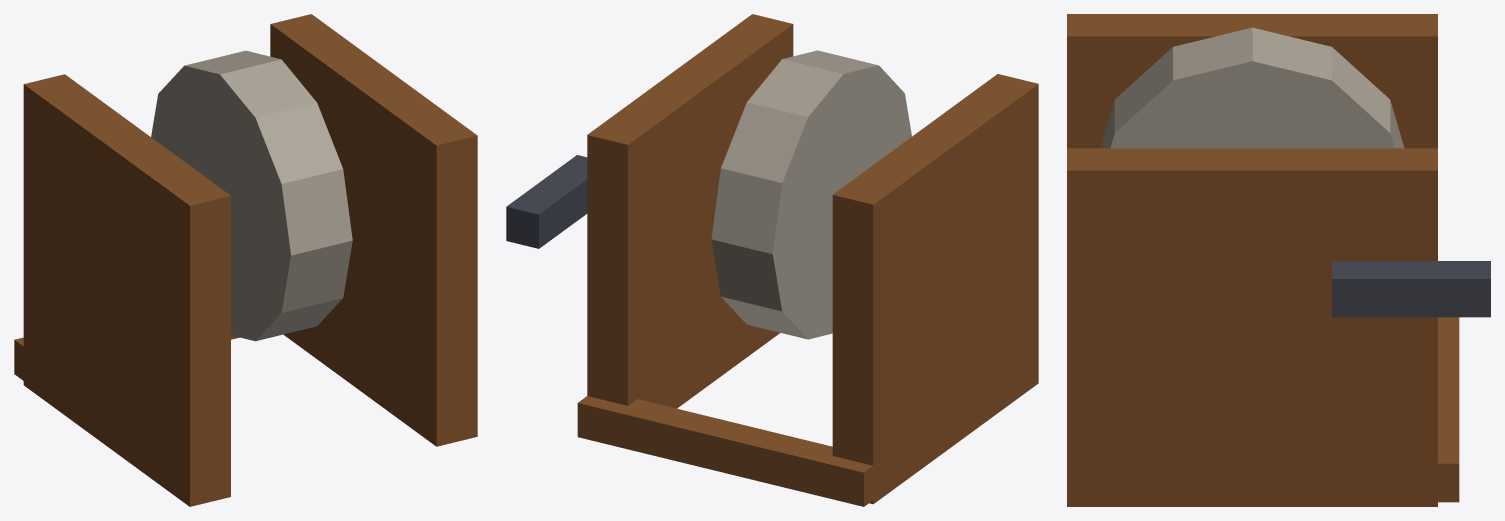
File: grindstone.glb
3 renders of one model, left to right at view 1: azimuth 30°, elevation 25°; view 2: azimuth 150°, elevation 25°; view 3: azimuth 270°, elevation 25°, orthographic. The views are drawn at different scales.
Visible parts, largest first — view 1: grindstone; view 2: grindstone; view 3: grindstone.
Boxes of the visible parts, bbox=[...] form: grindstone: bbox=[14, 14, 477, 506]; grindstone: bbox=[506, 14, 1038, 506]; grindstone: bbox=[1067, 14, 1490, 506].
Size of the model in its own units: 0.84 by 0.8 by 0.8.
